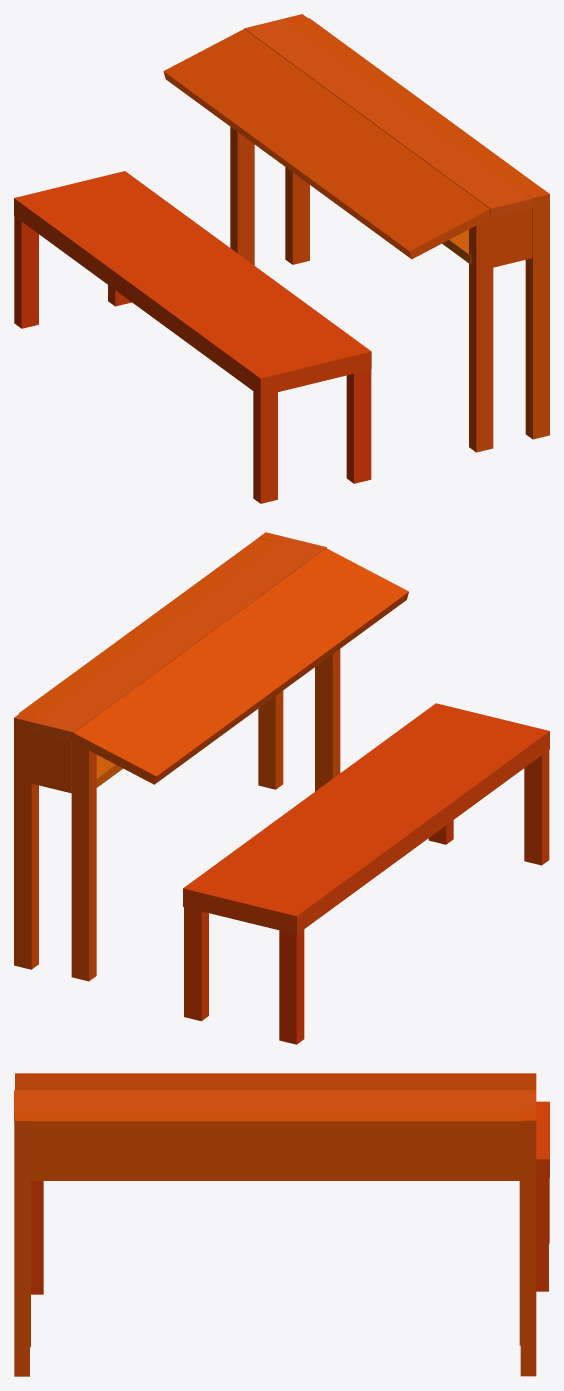
The model's file is bench&desk.fbx.
The picture shows the model from 3 angles, top to bottom: view 1: azimuth 30°, elevation 25°; view 2: azimuth 150°, elevation 25°; view 3: azimuth 270°, elevation 25°; orthographic projection. The views are drawn at different scales.
Parts seen in each view (by area): view 1: Cube.015, Cube.005, Cube.004, Cube.009, Cube.008, Cube.003, Cube.001, Cube.013, Cube.014, Cube.012, Cube.010, Cube.007; view 2: Cube.015, Cube.005, Cube.004, Cube.001, Cube.010, Cube.003, Cube.008, Cube.012, Cube.011, Cube.014, Cube.009, Cube.006; view 3: Cube.003, Cube.004, Cube.005, Cube.010, Cube.009, Cube.011, Cube.013, Cube.015.
Part boxes in pixels (left/top/right/bottom): Cube.015: left=14, top=171, right=371, bottom=396; Cube.005: left=163, top=29, right=490, bottom=259; Cube.004: left=244, top=18, right=533, bottom=217; Cube.009: left=525, top=188, right=549, bottom=439; Cube.008: left=469, top=218, right=493, bottom=452; Cube.003: left=293, top=18, right=541, bottom=193; Cube.001: left=230, top=127, right=254, bottom=265; Cube.013: left=346, top=369, right=371, bottom=483; Cube.014: left=253, top=391, right=277, bottom=503; Cube.012: left=14, top=216, right=38, bottom=328; Cube.010: left=285, top=14, right=309, bottom=264; Cube.007: left=490, top=208, right=532, bottom=268; Cube.015: left=183, top=703, right=549, bottom=934; Cube.005: left=70, top=548, right=408, bottom=784; Cube.004: left=31, top=536, right=326, bottom=740; Cube.001: left=71, top=742, right=96, bottom=981; Cube.010: left=14, top=712, right=38, bottom=969; Cube.003: left=19, top=538, right=277, bottom=716; Cube.008: left=315, top=649, right=340, bottom=791; Cube.012: left=279, top=929, right=304, bottom=1044; Cube.011: left=184, top=907, right=208, bottom=1021; Cube.014: left=524, top=750, right=549, bottom=865; Cube.009: left=258, top=532, right=283, bottom=789; Cube.006: left=31, top=731, right=71, bottom=793; Cube.003: left=27, top=1112, right=523, bottom=1180; Cube.004: left=14, top=1090, right=536, bottom=1121; Cube.005: left=15, top=1073, right=536, bottom=1090; Cube.010: left=520, top=1111, right=536, bottom=1376; Cube.009: left=14, top=1112, right=29, bottom=1376; Cube.011: left=536, top=1178, right=548, bottom=1291; Cube.013: left=31, top=1181, right=43, bottom=1294; Cube.015: left=536, top=1101, right=549, bottom=1177.
Bounding box in the file's own units: 663 × 555 × 1026.
